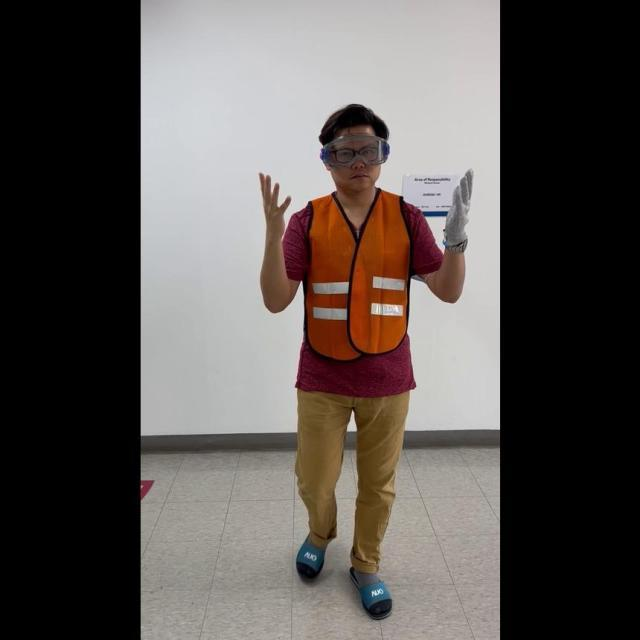bare_hand: (256, 165, 292, 240)
gloved_hand: (439, 164, 473, 252)
